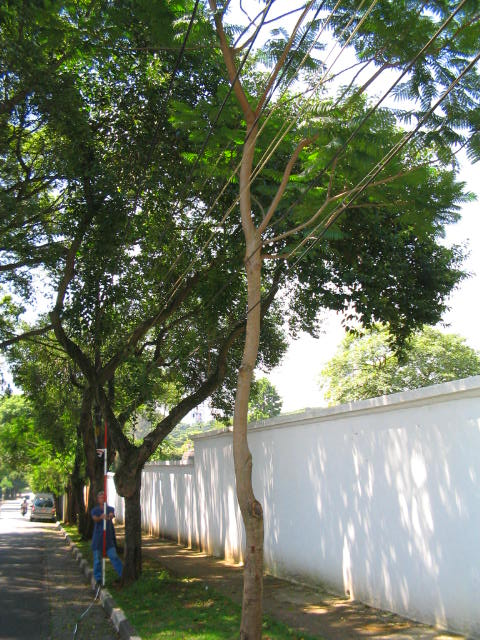crown: (5, 1, 470, 371)
stem: (109, 452, 165, 580)
stick: (95, 421, 111, 587)
tree: (1, 1, 472, 582)
